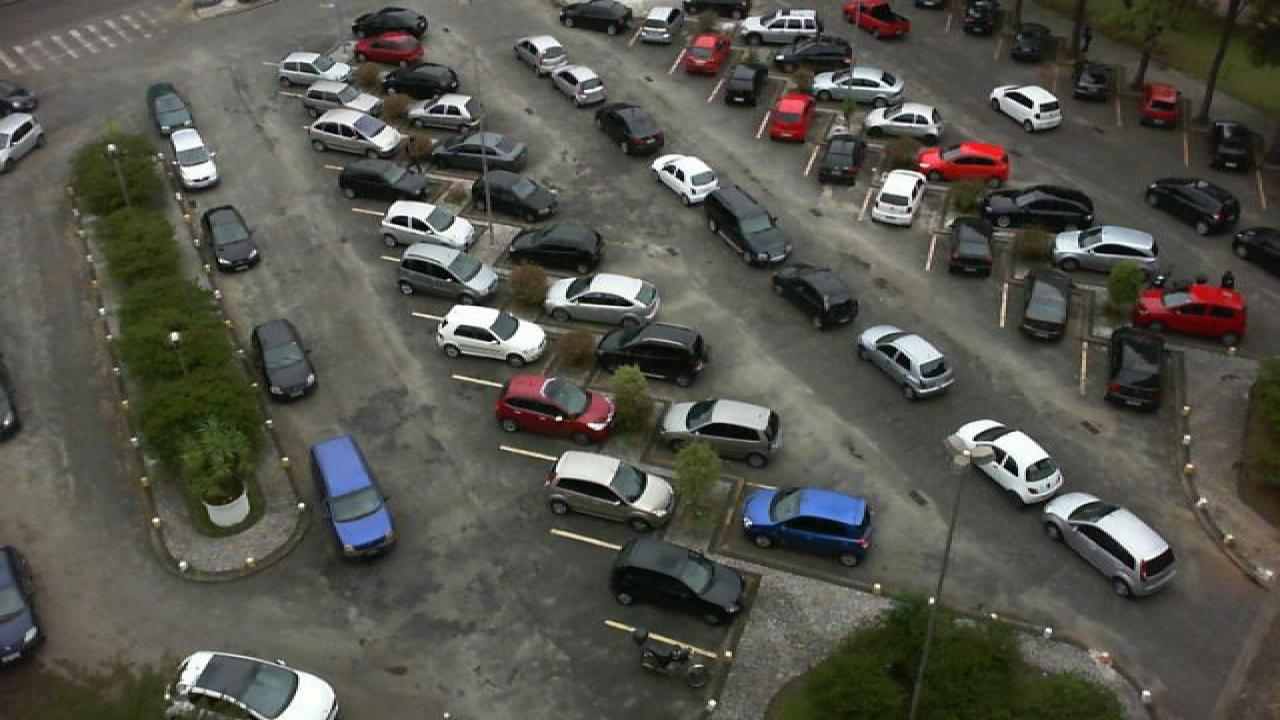Car: (1040, 490, 1178, 600), (160, 649, 342, 720), (608, 536, 750, 626), (738, 481, 878, 570), (544, 448, 676, 531), (310, 433, 396, 560), (944, 418, 1066, 507), (494, 372, 616, 448), (658, 396, 780, 468), (698, 182, 794, 267), (856, 324, 958, 402), (596, 321, 710, 387), (1136, 284, 1250, 346), (394, 243, 504, 306), (434, 304, 550, 363), (1142, 176, 1244, 240), (770, 261, 862, 331), (542, 272, 660, 326), (248, 316, 316, 401), (984, 182, 1098, 232), (1054, 224, 1162, 276), (1104, 324, 1168, 411), (0, 542, 44, 666), (380, 197, 478, 249), (510, 221, 606, 274), (306, 108, 408, 155), (200, 202, 264, 274), (914, 140, 1014, 184), (428, 130, 526, 174), (476, 171, 560, 222), (592, 100, 668, 155), (810, 65, 906, 108), (338, 158, 426, 204), (988, 82, 1066, 132), (650, 153, 722, 206), (166, 125, 222, 190), (1018, 276, 1072, 340), (144, 81, 202, 139), (946, 216, 1000, 278), (862, 101, 942, 142), (870, 169, 926, 227), (300, 81, 384, 119), (1204, 117, 1262, 172), (274, 52, 356, 89), (410, 93, 484, 133), (378, 60, 460, 96), (814, 127, 864, 186), (544, 65, 610, 109), (0, 112, 44, 175), (738, 10, 824, 42), (842, 0, 914, 38), (766, 89, 816, 143), (1138, 80, 1190, 130), (558, 0, 634, 34), (786, 32, 854, 70), (350, 6, 428, 37), (352, 32, 426, 64), (512, 34, 572, 73), (718, 61, 766, 108), (678, 31, 726, 76), (1066, 60, 1116, 103), (636, 5, 682, 46), (1006, 23, 1050, 64), (958, 0, 1000, 38), (0, 80, 38, 114)
